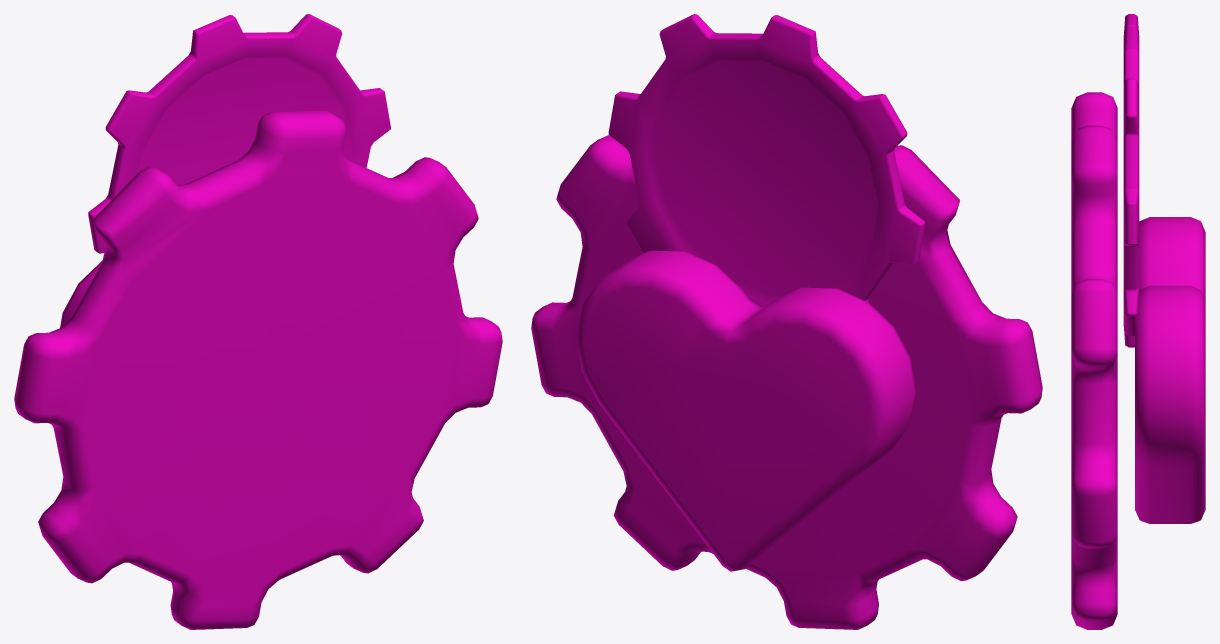
File: WABD_outlet_low.fbx
3 renders of one model, left to right at view 1: azimuth 30°, elevation 25°; view 2: azimuth 150°, elevation 25°; view 3: azimuth 270°, elevation 25°, orthographic. The views are drawn at different scales.
Visible parts, largest first — view 1: wall_outlet_lo; view 2: wall_outlet_lo; view 3: wall_outlet_lo.
Part boxes in pixels (bbox=[...]): wall_outlet_lo: bbox=[14, 14, 502, 629]; wall_outlet_lo: bbox=[531, 14, 1042, 629]; wall_outlet_lo: bbox=[1071, 14, 1205, 629].
Size of the model in its own units: 166 by 196 by 41.38.
